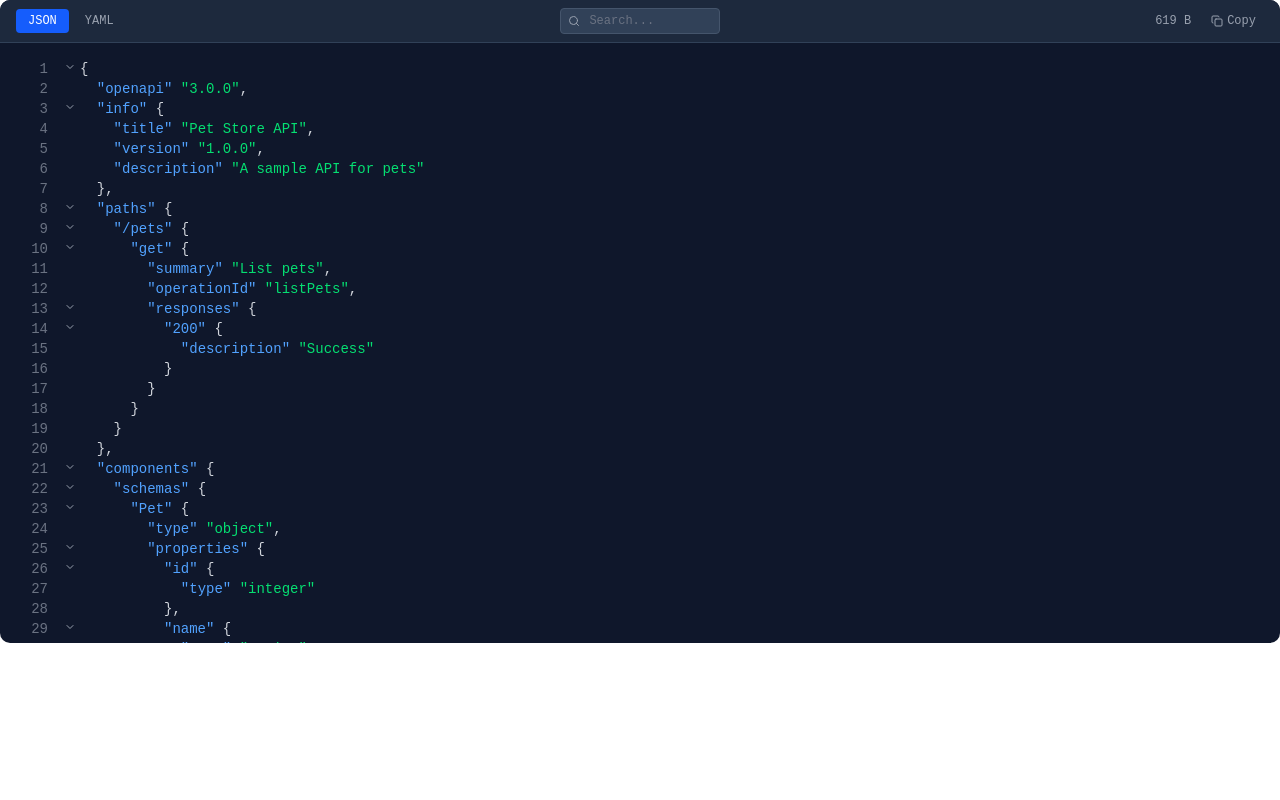
OASViewer › Search Functionality › should show match count
Type "Pet" into the search field.
click(640, 21); type("Pet")  # box [560,8,720,34]
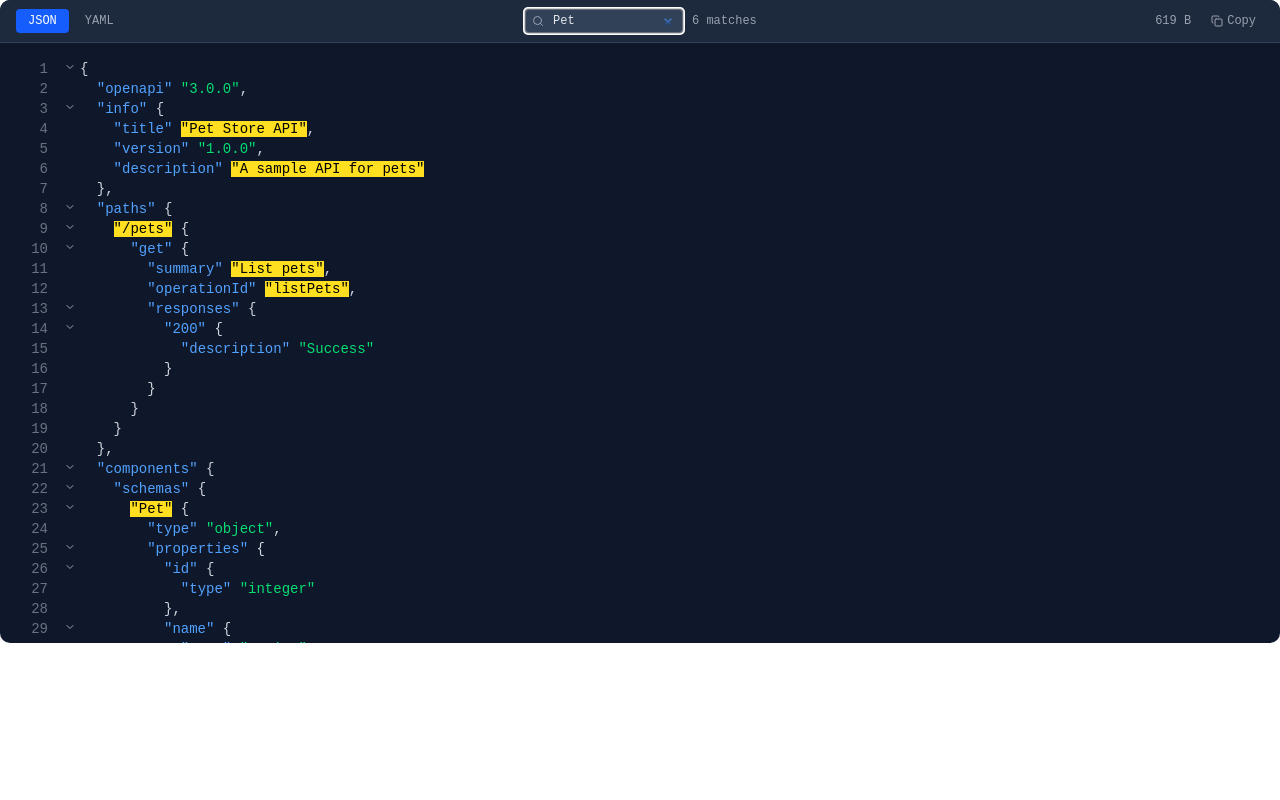
Result: the text "6 matches" is shown at [692,13,757,29]
